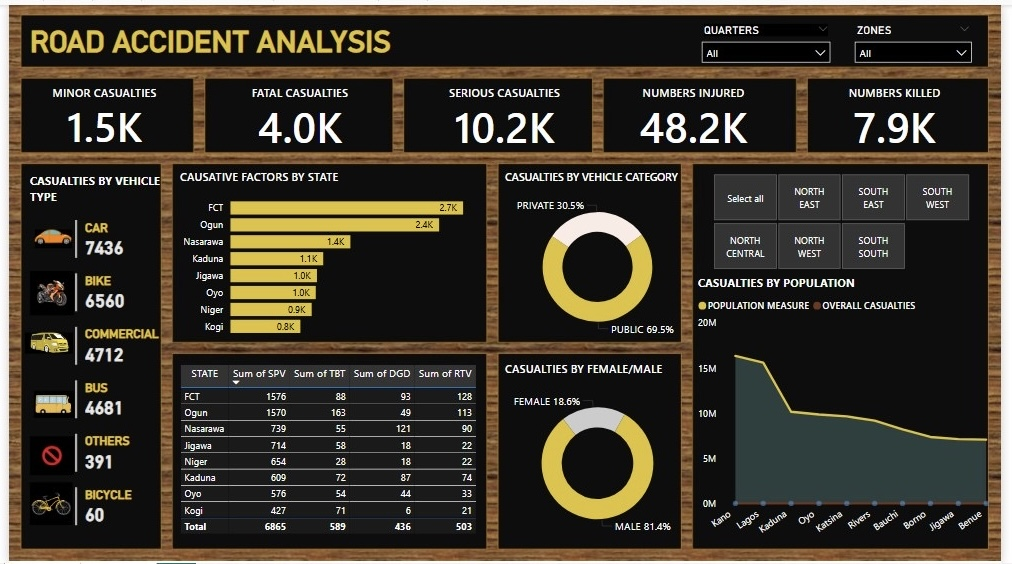

Layout of this report page (visuals, bound fields, positions):
{"tool":"powerbi","page":{"name":"Page 1","canvas":[1280,720],"ordinal":0},"visuals":[{"type":"card","title":"FATAL CASUALTIES","fields":{"Values":["Sum(Q1 2023 ROAD TRAFFIC.FATAL)"]},"box":[273.5,103.2,203.9,82.6],"z":0},{"type":"card","title":"SERIOUS CASUALTIES","fields":{"Values":["Sum(Q1 2023 ROAD TRAFFIC.SERIOUS)"]},"box":[538.1,103.2,202.6,82.6],"z":1000},{"type":"card","title":"NUMBERS INJURED","fields":{"Values":["Sum(Q1 2023 ROAD TRAFFIC.NUMBER INJURED)"]},"box":[781.9,103.2,202.6,82.6],"z":2000},{"type":"card","title":"NUMBERS KILLED","fields":{"Values":["Sum(Q1 2023 ROAD TRAFFIC.NUMBER KILLED)"]},"box":[1041.3,103.2,202.6,82.6],"z":3000},{"type":"slicer","fields":{"Values":["Q1 2023 ROAD TRAFFIC.QUARTERS"]},"box":[883.9,19.4,185.8,59.4],"z":4000},{"type":"card","title":"MINOR CASUALTIES","fields":{"Values":["Sum(Q1 2023 ROAD TRAFFIC.MINOR)"]},"box":[21.9,103.2,202.6,82.6],"z":5000},{"type":"multiRowCard","title":"CASUALTIES BY VEHICLE TYPE","fields":{"Values":["TYPES OF ROAD TRAFFIC VEH.VEHICLE TYPES (groups)","TYPES OF ROAD TRAFFIC VEH.SUM OF VEH TYPES"]},"box":[80,272.3,121.3,431],"z":6000},{"type":"donutChart","title":"CASUALTIES BY FEMALE/MALE","fields":{"Category":["SEX DIST OF PERSONS KILLED.SEX DISTRIBUTION OF PERSONS KILLED (groups)"],"Y":["SEX DIST OF PERSONS KILLED.TOTAL CASUALTIES"]},"box":[634.8,459.4,249,243.9],"z":7000},{"type":"donutChart","title":"CASUALTIES BY VEHICLE CATEGORY","fields":{"Category":["CATEGORY OF ROAD TRAFFIC VEH.VEHICLE CATEGORY (groups)"],"Y":["CATEGORY OF ROAD TRAFFIC VEH.TOTAL VEH CASUALTIES"]},"box":[634.8,211.6,249,234.8],"z":8000},{"type":"clusteredBarChart","title":"CAUSATIVE FACTORS BY STATE","fields":{"Category":["Q12023 CAUSE FACTOR.STATE"],"Y":["Sum(Q12023 CAUSE FACTOR.TOTAL)"]},"box":[216.1,212,397.8,225.7],"z":9000},{"type":"slicer","fields":{"Values":["Q12023 CAUSE FACTOR.ZONES"]},"box":[1081.8,19.3,170.7,59.2],"z":10000},{"type":"tableEx","fields":{"Values":["Q12023 CAUSE FACTOR.STATE","Sum(Q12023 CAUSE FACTOR.SPV)","Sum(Q12023 CAUSE FACTOR.TBT)","Sum(Q12023 CAUSE FACTOR.DGD)","Sum(Q12023 CAUSE FACTOR.RTV)"]},"box":[216.1,459.7,397.8,243.6],"z":11000},{"type":"areaChart","title":"CASUALTIES BY POPULATION","fields":{"Category":["Q1 2023 ROAD TRAFFIC.STATE"],"Y":["2025 ESTIMATED POPULATION.POPULATION MEASURE","Q1 2023 ROAD TRAFFIC.OVERALL CASUALTIES"]},"box":[883.6,348.2,396.4,355.1],"z":12000},{"type":"slicer","title":"POPULATION CASUALTY","fields":{"Values":["Q1 2023 ROAD TRAFFIC.ZONES CASUALTIES"]},"box":[883.6,212,378.5,136.3],"z":13000},{"type":"textbox","box":[22,19.3,564.3,59.2],"z":14000},{"type":"textbox","box":[22,212,178.9,59.2],"z":15000},{"type":"image","box":[21.9,549.7,67.1,63.2],"z":16000},{"type":"image","box":[28.4,256.8,58.1,90.3],"z":17000},{"type":"image","box":[22,330.3,67.4,82.6],"z":18000},{"type":"image","box":[21.9,600,64.5,87.7],"z":19000},{"type":"image","box":[27.1,487.7,61.9,54.2],"z":20000},{"type":"image","box":[15.1,385.4,71.6,101.8],"z":21000}]}

Visuals, with their boxes in screenshot pixels (x1, y1, x2, y2), scaled from the page's 1280x720 canvas onto the 1012x564 screenshot:
"FATAL CASUALTIES" card: {"left": 216, "top": 81, "right": 377, "bottom": 146}
"SERIOUS CASUALTIES" card: {"left": 425, "top": 81, "right": 586, "bottom": 146}
"NUMBERS INJURED" card: {"left": 618, "top": 81, "right": 778, "bottom": 146}
"NUMBERS KILLED" card: {"left": 823, "top": 81, "right": 983, "bottom": 146}
slicer - Q1 2023 ROAD TRAFFIC.QUARTERS: {"left": 699, "top": 15, "right": 846, "bottom": 62}
"MINOR CASUALTIES" card: {"left": 17, "top": 81, "right": 177, "bottom": 146}
"CASUALTIES BY VEHICLE TYPE" multiRowCard: {"left": 63, "top": 213, "right": 159, "bottom": 551}
"CASUALTIES BY FEMALE/MALE" donutChart: {"left": 502, "top": 360, "right": 699, "bottom": 551}
"CASUALTIES BY VEHICLE CATEGORY" donutChart: {"left": 502, "top": 166, "right": 699, "bottom": 350}
"CAUSATIVE FACTORS BY STATE" clusteredBarChart: {"left": 171, "top": 166, "right": 485, "bottom": 343}
slicer - Q12023 CAUSE FACTOR.ZONES: {"left": 855, "top": 15, "right": 990, "bottom": 61}
tableEx - Q12023 CAUSE FACTOR.STATE x Sum(Q12023 CAUSE FACTOR.SPV): {"left": 171, "top": 360, "right": 485, "bottom": 551}
"CASUALTIES BY POPULATION" areaChart: {"left": 699, "top": 273, "right": 1011, "bottom": 551}
"POPULATION CASUALTY" slicer: {"left": 699, "top": 166, "right": 998, "bottom": 273}
textbox: {"left": 17, "top": 15, "right": 464, "bottom": 61}
textbox: {"left": 17, "top": 166, "right": 159, "bottom": 212}
image: {"left": 17, "top": 431, "right": 70, "bottom": 480}
image: {"left": 22, "top": 201, "right": 68, "bottom": 272}
image: {"left": 17, "top": 259, "right": 71, "bottom": 323}
image: {"left": 17, "top": 470, "right": 68, "bottom": 539}
image: {"left": 21, "top": 382, "right": 70, "bottom": 424}
image: {"left": 12, "top": 302, "right": 69, "bottom": 382}
